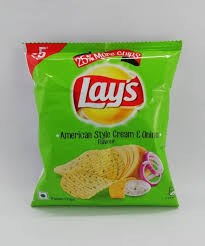lays-small-5: (26, 37, 181, 209)
